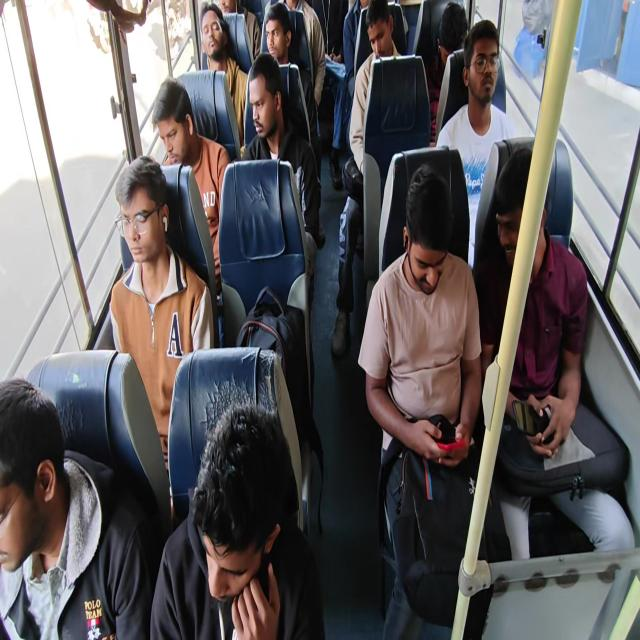person: (176, 379, 315, 640), (0, 392, 80, 624), (399, 184, 482, 370), (492, 164, 554, 336), (108, 169, 170, 329), (465, 26, 505, 123), (149, 78, 192, 166), (243, 60, 281, 159), (198, 6, 236, 76), (368, 11, 404, 79), (442, 9, 472, 78), (252, 20, 295, 60), (319, 2, 344, 63), (347, 0, 379, 26), (282, 0, 311, 26), (215, 0, 240, 29)
